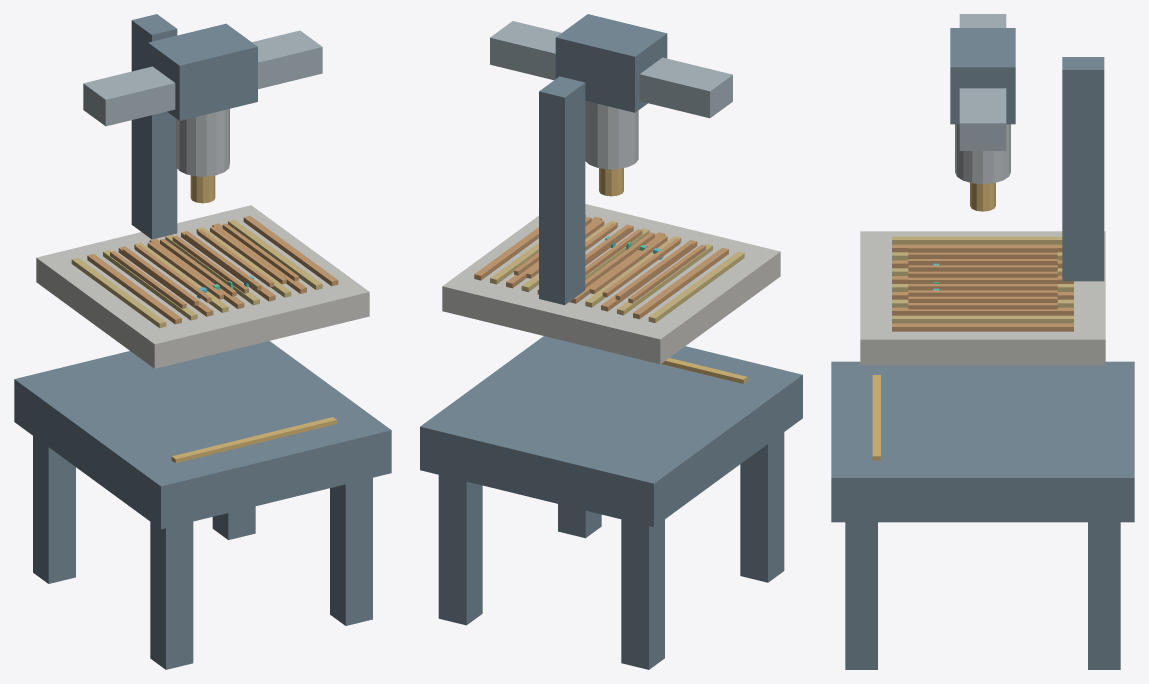
The model's file is 56_L78_InterconnectRCDelayAnalyzer.glb.
3 renders of one model, left to right at view 1: azimuth 30°, elevation 25°; view 2: azimuth 150°, elevation 25°; view 3: azimuth 270°, elevation 25°, orthographic. The views are drawn at different scales.
Visible parts, largest first — view 1: InterconnectRCDelayAnalyzer_Node_0000, InterconnectRCDelayAnalyzer_Node_0006, InterconnectRCDelayAnalyzer_Node_0033, InterconnectRCDelayAnalyzer_Node_0020, InterconnectRCDelayAnalyzer_Node_0019, InterconnectRCDelayAnalyzer_Node_0002, InterconnectRCDelayAnalyzer_Node_0004, InterconnectRCDelayAnalyzer_Node_0001, InterconnectRCDelayAnalyzer_Node_0021, InterconnectRCDelayAnalyzer_Node_0005, InterconnectRCDelayAnalyzer_Node_0003, InterconnectRCDelayAnalyzer_Node_0007 (+15 smaller); view 2: InterconnectRCDelayAnalyzer_Node_0000, InterconnectRCDelayAnalyzer_Node_0006, InterconnectRCDelayAnalyzer_Node_0019, InterconnectRCDelayAnalyzer_Node_0033, InterconnectRCDelayAnalyzer_Node_0020, InterconnectRCDelayAnalyzer_Node_0003, InterconnectRCDelayAnalyzer_Node_0001, InterconnectRCDelayAnalyzer_Node_0002, InterconnectRCDelayAnalyzer_Node_0021, InterconnectRCDelayAnalyzer_Node_0004, InterconnectRCDelayAnalyzer_Node_0007, InterconnectRCDelayAnalyzer_Node_0008 (+9 smaller); view 3: InterconnectRCDelayAnalyzer_Node_0000, InterconnectRCDelayAnalyzer_Node_0006, InterconnectRCDelayAnalyzer_Node_0019, InterconnectRCDelayAnalyzer_Node_0003, InterconnectRCDelayAnalyzer_Node_0004, InterconnectRCDelayAnalyzer_Node_0033, InterconnectRCDelayAnalyzer_Node_0020, InterconnectRCDelayAnalyzer_Node_0021, InterconnectRCDelayAnalyzer_Node_0017, InterconnectRCDelayAnalyzer_Node_0018, InterconnectRCDelayAnalyzer_Node_0007, InterconnectRCDelayAnalyzer_Node_0016 (+13 smaller).
Boxes of the visible parts, bbox=[...] form: InterconnectRCDelayAnalyzer_Node_0000: bbox=[14, 341, 391, 529]; InterconnectRCDelayAnalyzer_Node_0006: bbox=[36, 205, 369, 368]; InterconnectRCDelayAnalyzer_Node_0033: bbox=[148, 23, 257, 120]; InterconnectRCDelayAnalyzer_Node_0020: bbox=[83, 30, 322, 126]; InterconnectRCDelayAnalyzer_Node_0019: bbox=[131, 14, 177, 239]; InterconnectRCDelayAnalyzer_Node_0002: bbox=[150, 521, 193, 669]; InterconnectRCDelayAnalyzer_Node_0004: bbox=[330, 478, 372, 625]; InterconnectRCDelayAnalyzer_Node_0001: bbox=[33, 436, 75, 583]; InterconnectRCDelayAnalyzer_Node_0021: bbox=[176, 109, 229, 176]; InterconnectRCDelayAnalyzer_Node_0005: bbox=[171, 417, 336, 463]; InterconnectRCDelayAnalyzer_Node_0003: bbox=[212, 506, 255, 539]; InterconnectRCDelayAnalyzer_Node_0007: bbox=[71, 258, 166, 328]; InterconnectRCDelayAnalyzer_Node_0000: bbox=[420, 336, 802, 527]; InterconnectRCDelayAnalyzer_Node_0006: bbox=[442, 204, 780, 364]; InterconnectRCDelayAnalyzer_Node_0019: bbox=[539, 76, 585, 305]; InterconnectRCDelayAnalyzer_Node_0033: bbox=[555, 14, 667, 112]; InterconnectRCDelayAnalyzer_Node_0020: bbox=[490, 21, 732, 118]; InterconnectRCDelayAnalyzer_Node_0003: bbox=[438, 475, 482, 625]; InterconnectRCDelayAnalyzer_Node_0001: bbox=[621, 519, 664, 669]; InterconnectRCDelayAnalyzer_Node_0002: bbox=[740, 432, 784, 582]; InterconnectRCDelayAnalyzer_Node_0021: bbox=[585, 101, 638, 169]; InterconnectRCDelayAnalyzer_Node_0004: bbox=[558, 504, 601, 538]; InterconnectRCDelayAnalyzer_Node_0007: bbox=[648, 251, 744, 322]; InterconnectRCDelayAnalyzer_Node_0008: bbox=[633, 247, 728, 319]; InterconnectRCDelayAnalyzer_Node_0000: bbox=[831, 361, 1134, 522]; InterconnectRCDelayAnalyzer_Node_0006: bbox=[860, 231, 1105, 365]; InterconnectRCDelayAnalyzer_Node_0019: bbox=[1062, 57, 1104, 281]; InterconnectRCDelayAnalyzer_Node_0003: bbox=[1088, 522, 1120, 669]; InterconnectRCDelayAnalyzer_Node_0004: bbox=[845, 522, 877, 669]; InterconnectRCDelayAnalyzer_Node_0033: bbox=[950, 28, 1015, 124]; InterconnectRCDelayAnalyzer_Node_0020: bbox=[959, 14, 1006, 150]; InterconnectRCDelayAnalyzer_Node_0021: bbox=[955, 124, 1010, 184]; InterconnectRCDelayAnalyzer_Node_0017: bbox=[892, 315, 1073, 323]; InterconnectRCDelayAnalyzer_Node_0018: bbox=[892, 323, 1073, 331]; InterconnectRCDelayAnalyzer_Node_0007: bbox=[892, 236, 1062, 244]; InterconnectRCDelayAnalyzer_Node_0016: bbox=[892, 307, 1073, 315].
Size of the model in its own units: 1.18 by 2.7 by 1.3.
